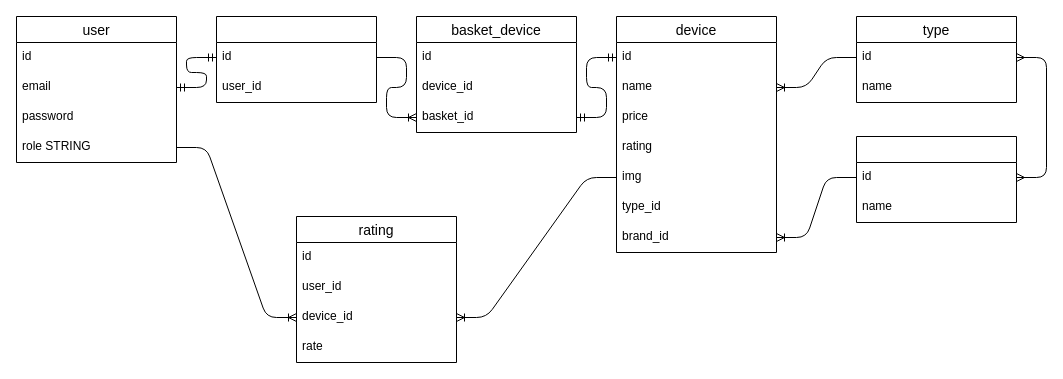
This 1063x379 diagram has some shape labels left out. Each missing label, with the box of its shape:
basket: (216, 16, 376, 102)
brand: (856, 136, 1016, 222)
